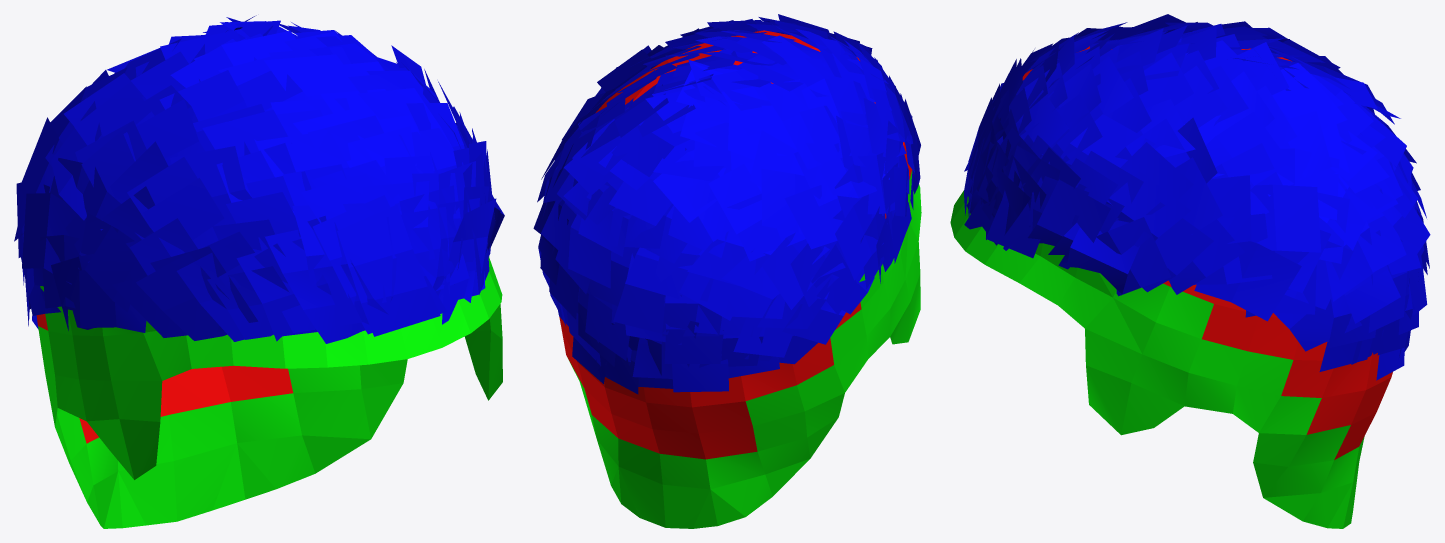
File: hair_003.obj
3 renders of one model, left to right at view 1: azimuth 30°, elevation 25°; view 2: azimuth 150°, elevation 25°; view 3: azimuth 270°, elevation 25°, orthographic. The views are drawn at different scales.
Size of the model in its own units: 15.86 by 20.71 by 18.99.
